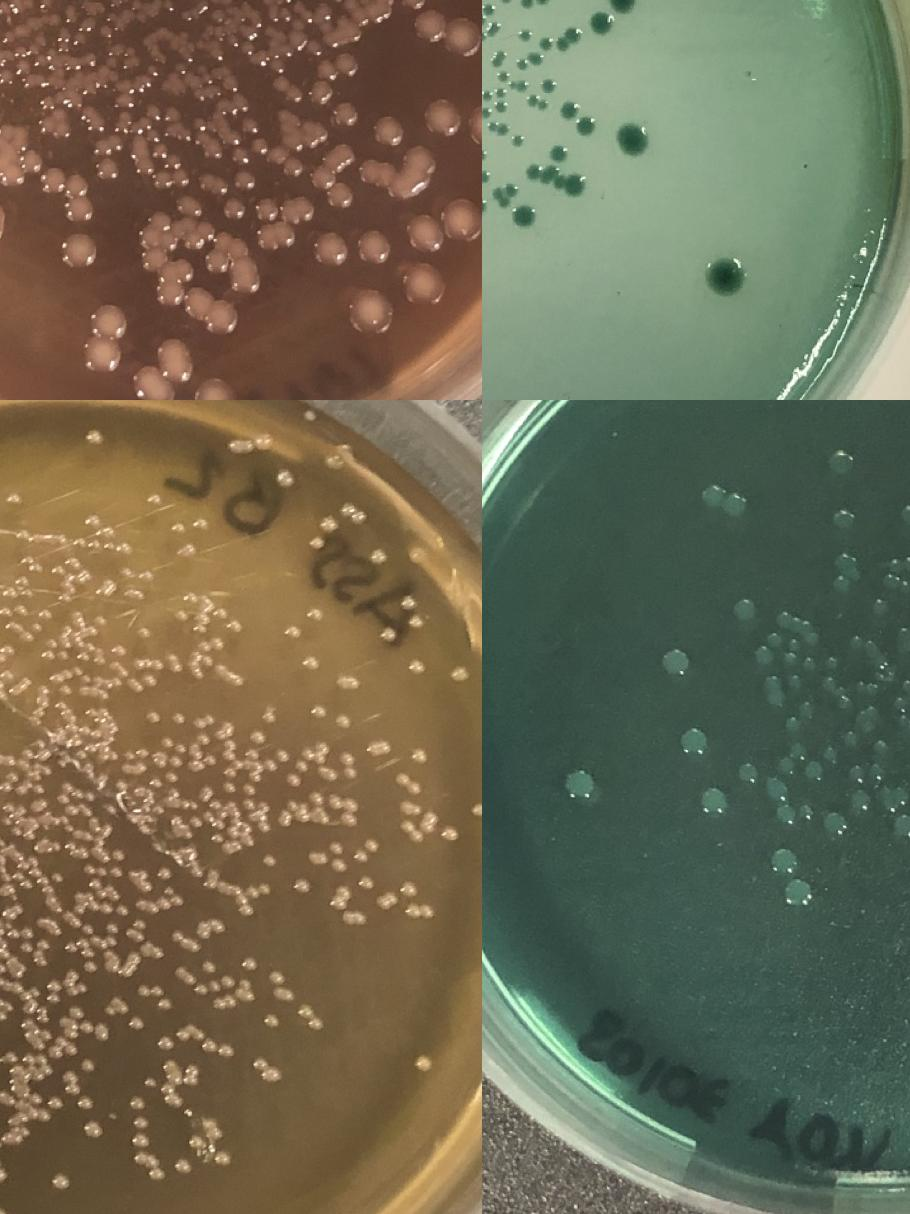assalmonicida: (11, 866, 64, 898), (64, 937, 98, 973), (153, 735, 187, 768), (328, 794, 358, 828), (214, 722, 237, 763), (200, 1037, 237, 1060), (48, 1034, 78, 1060), (0, 769, 28, 796), (262, 749, 290, 772), (1, 1048, 36, 1066), (340, 504, 368, 526), (354, 839, 379, 863), (400, 819, 425, 842), (40, 647, 73, 664), (288, 760, 308, 788), (396, 773, 421, 795), (162, 883, 183, 909), (331, 885, 350, 909), (63, 1070, 79, 1098), (340, 752, 356, 780), (246, 883, 272, 900), (19, 926, 34, 955), (33, 782, 48, 811), (137, 898, 160, 916), (192, 713, 216, 730), (133, 1152, 158, 1168), (175, 966, 196, 984), (189, 746, 203, 773), (185, 1063, 200, 1087), (377, 892, 398, 909), (155, 1035, 175, 1052), (250, 1056, 270, 1072), (128, 1017, 148, 1032), (450, 669, 470, 684), (407, 613, 424, 630), (342, 912, 366, 924), (277, 810, 293, 828), (244, 746, 260, 764), (335, 714, 351, 732), (284, 624, 300, 642), (136, 624, 152, 642), (274, 988, 294, 1002), (307, 852, 327, 866), (338, 678, 361, 690), (37, 606, 53, 623), (181, 543, 197, 560), (148, 491, 164, 508), (214, 998, 236, 1010), (100, 580, 116, 596), (100, 524, 116, 540), (170, 520, 186, 536), (84, 514, 100, 530), (85, 430, 101, 446), (0, 642, 15, 659), (7, 491, 22, 508), (419, 905, 437, 919), (310, 704, 326, 719), (303, 656, 319, 671), (111, 645, 127, 660), (306, 608, 322, 623), (321, 518, 338, 532), (98, 824, 114, 838), (381, 628, 397, 642), (92, 614, 108, 628), (14, 604, 30, 618), (400, 596, 416, 610), (371, 550, 387, 564), (309, 536, 325, 550), (261, 851, 275, 866), (258, 819, 272, 834), (323, 770, 338, 784), (316, 742, 331, 756), (261, 710, 275, 725), (174, 608, 188, 623), (133, 1134, 147, 1148), (85, 1123, 99, 1137), (134, 1116, 148, 1130), (36, 1108, 50, 1122), (130, 1097, 144, 1111), (78, 1096, 92, 1110), (50, 1094, 64, 1108), (166, 1094, 180, 1108), (80, 1059, 94, 1073), (95, 1026, 109, 1040), (69, 1005, 83, 1019), (37, 937, 51, 951), (80, 922, 94, 936), (133, 918, 147, 932), (239, 904, 253, 918), (116, 904, 130, 918), (72, 902, 86, 916), (404, 882, 418, 896), (359, 874, 373, 888), (157, 867, 171, 881), (108, 866, 122, 880), (332, 859, 346, 873), (111, 849, 125, 863), (328, 841, 342, 855), (210, 830, 224, 844), (444, 826, 458, 840), (401, 802, 415, 816), (198, 788, 212, 802), (163, 770, 177, 784), (205, 753, 219, 767), (21, 746, 35, 760), (146, 710, 160, 724), (194, 518, 208, 532), (243, 782, 256, 797), (29, 1094, 42, 1108), (136, 985, 150, 998), (243, 956, 256, 970), (106, 922, 119, 936), (296, 880, 309, 894), (226, 824, 239, 838), (309, 792, 323, 805), (56, 792, 70, 805), (224, 782, 236, 797), (224, 765, 236, 780), (174, 710, 186, 725), (0, 604, 12, 619), (143, 1076, 155, 1090), (80, 1020, 92, 1034), (270, 970, 282, 984), (202, 960, 214, 974), (4, 906, 16, 920), (82, 863, 94, 877), (188, 816, 202, 828), (4, 754, 16, 768), (414, 749, 426, 763), (198, 732, 210, 746), (252, 731, 264, 745), (152, 985, 164, 998), (100, 902, 112, 915), (411, 661, 423, 674), (183, 1108, 195, 1120), (418, 1058, 430, 1070), (311, 1018, 323, 1030), (265, 1015, 277, 1027), (158, 998, 170, 1010), (194, 984, 206, 996), (208, 980, 220, 992), (239, 979, 251, 991), (221, 976, 233, 988), (1, 816, 13, 828), (59, 814, 71, 826), (16, 804, 28, 816), (2, 802, 14, 814), (84, 791, 96, 803), (116, 781, 128, 793), (149, 777, 161, 789), (41, 764, 53, 776), (472, 804, 482, 818)
pddamselae: (526, 164, 588, 200), (778, 612, 820, 648), (880, 542, 910, 592), (707, 257, 743, 293), (612, 120, 648, 156), (540, 27, 583, 50), (834, 553, 857, 591), (784, 880, 812, 908), (769, 846, 797, 874), (566, 770, 594, 798), (661, 649, 689, 677), (482, 85, 509, 113), (511, 203, 539, 229), (588, 11, 614, 37), (848, 635, 878, 657), (700, 790, 726, 814), (762, 776, 788, 800), (800, 759, 826, 783), (682, 731, 708, 755), (846, 788, 873, 811), (822, 814, 847, 838), (773, 802, 798, 826), (764, 678, 785, 706), (738, 760, 762, 784), (884, 784, 910, 806), (870, 596, 892, 620), (514, 52, 543, 70), (482, 2, 496, 37), (833, 510, 855, 532), (723, 492, 745, 514), (734, 599, 755, 621), (831, 452, 852, 474), (892, 815, 910, 839), (702, 486, 722, 506), (526, 93, 548, 110), (610, 0, 638, 12), (561, 100, 579, 118), (503, 182, 520, 200), (551, 146, 568, 164), (520, 0, 557, 8), (578, 118, 594, 136), (842, 730, 858, 748), (787, 674, 803, 692), (823, 656, 839, 674), (800, 656, 816, 674), (780, 652, 796, 670), (823, 745, 839, 762), (872, 740, 888, 757), (822, 676, 838, 693), (858, 711, 873, 728), (756, 646, 770, 664), (899, 505, 910, 527), (891, 696, 907, 711), (784, 716, 798, 733), (869, 766, 885, 780), (848, 766, 864, 780), (791, 742, 807, 756), (836, 696, 852, 710), (863, 684, 879, 698), (766, 632, 782, 646), (778, 757, 792, 772), (800, 702, 815, 716), (786, 637, 800, 652), (896, 628, 910, 643), (511, 132, 525, 146), (496, 122, 510, 136), (542, 78, 556, 92), (514, 76, 528, 90), (496, 68, 510, 82), (494, 48, 508, 62), (488, 19, 502, 33), (518, 27, 532, 40), (482, 104, 492, 118), (482, 168, 491, 182), (482, 195, 487, 213), (482, 148, 488, 162), (499, 0, 513, 3)
vharveyi: (407, 199, 482, 253), (415, 10, 482, 57), (40, 168, 96, 224), (82, 305, 127, 374), (137, 346, 194, 400), (258, 196, 314, 250), (229, 132, 273, 196), (186, 288, 240, 336), (346, 290, 392, 334), (400, 264, 446, 308), (310, 164, 352, 208), (155, 260, 193, 308), (0, 151, 42, 189), (355, 227, 393, 266), (59, 232, 97, 270), (423, 100, 461, 138), (314, 232, 351, 268), (230, 256, 260, 296), (183, 378, 234, 400), (374, 116, 406, 148), (182, 220, 216, 250), (360, 160, 396, 186), (406, 146, 436, 174), (16, 58, 40, 90), (330, 142, 358, 169), (282, 154, 308, 182), (466, 103, 482, 147), (142, 245, 168, 272), (222, 196, 248, 222), (177, 194, 203, 220), (97, 158, 123, 184), (94, 136, 124, 156), (335, 52, 360, 76), (254, 198, 278, 222), (334, 101, 358, 125), (310, 80, 334, 104), (206, 250, 228, 274), (147, 210, 169, 233), (89, 114, 105, 132), (8, 0, 28, 14), (166, 108, 182, 124), (233, 94, 249, 110), (40, 96, 56, 111), (148, 108, 162, 125), (274, 76, 290, 90), (223, 76, 239, 90), (306, 40, 322, 54)
